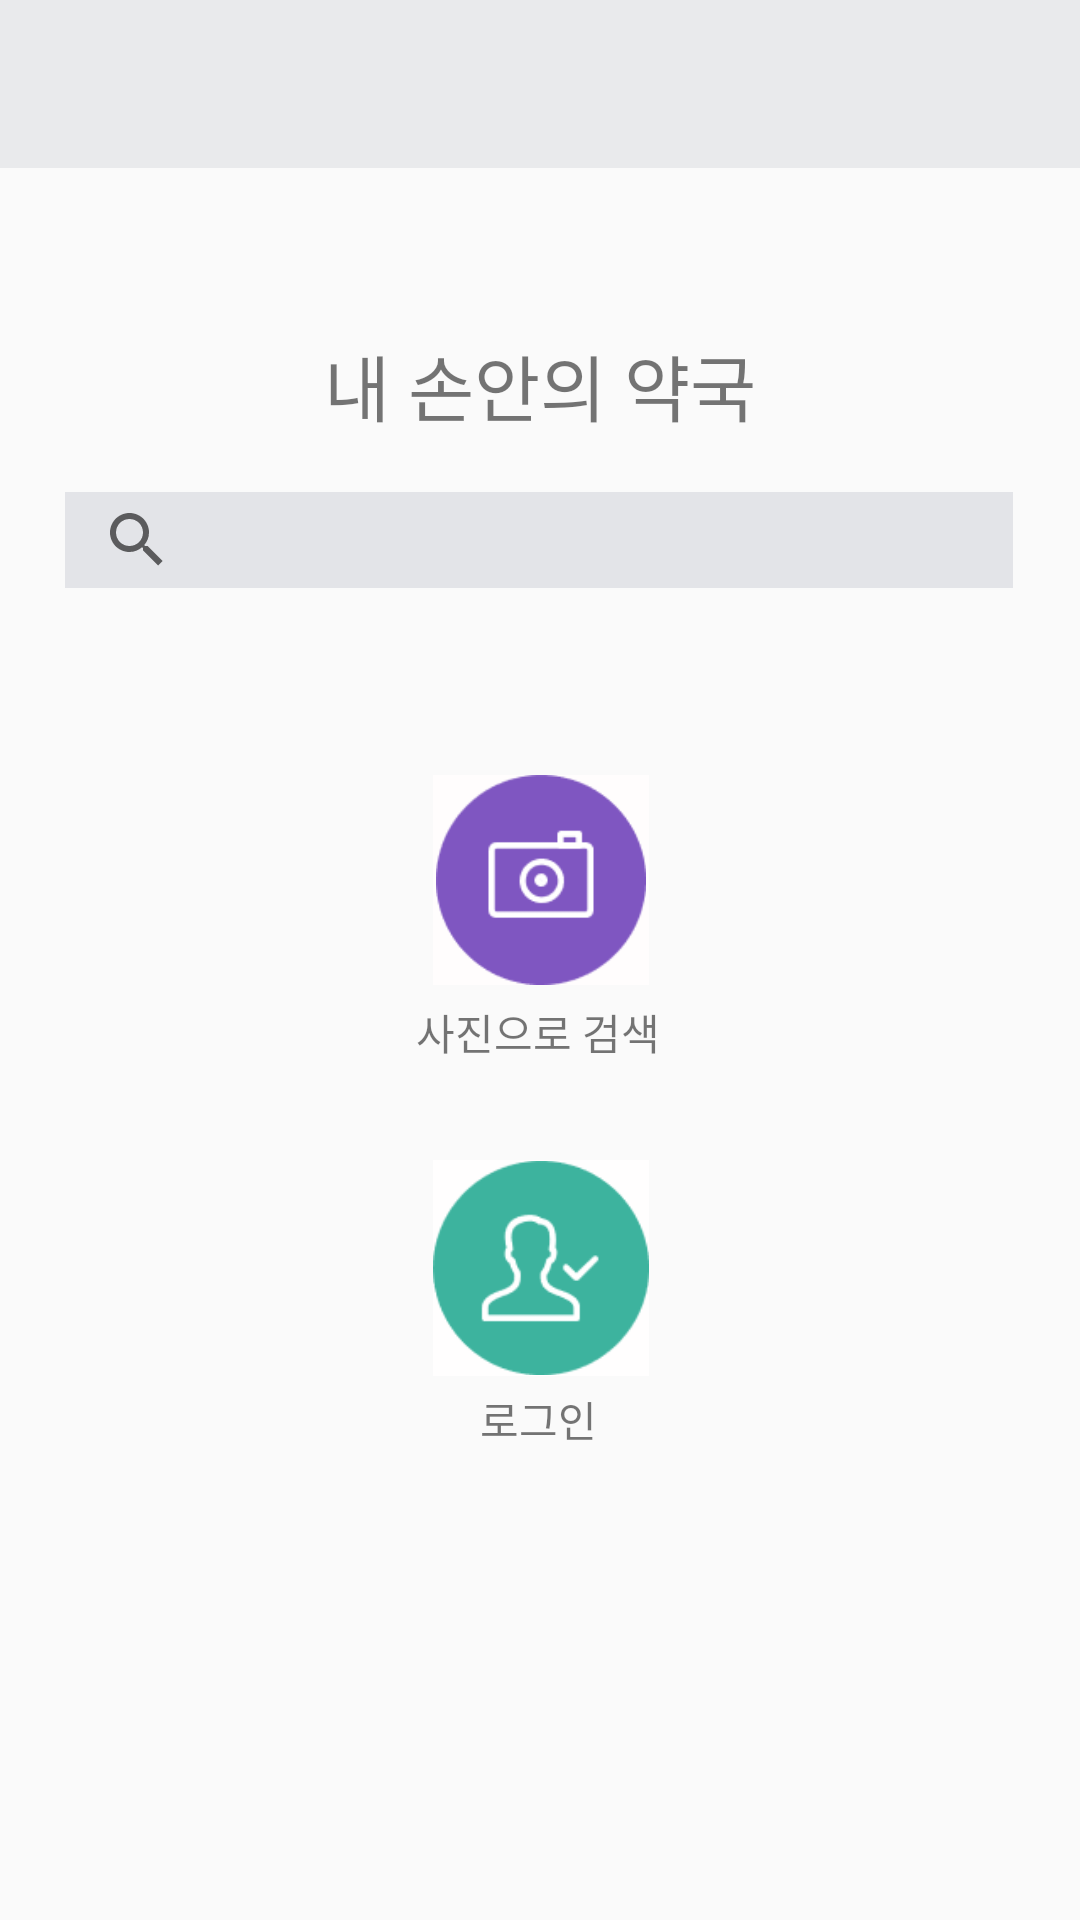

Where to tap for icons on this 1080 × 1920 app screen, as point (x, y):
camera: point (541, 880)
